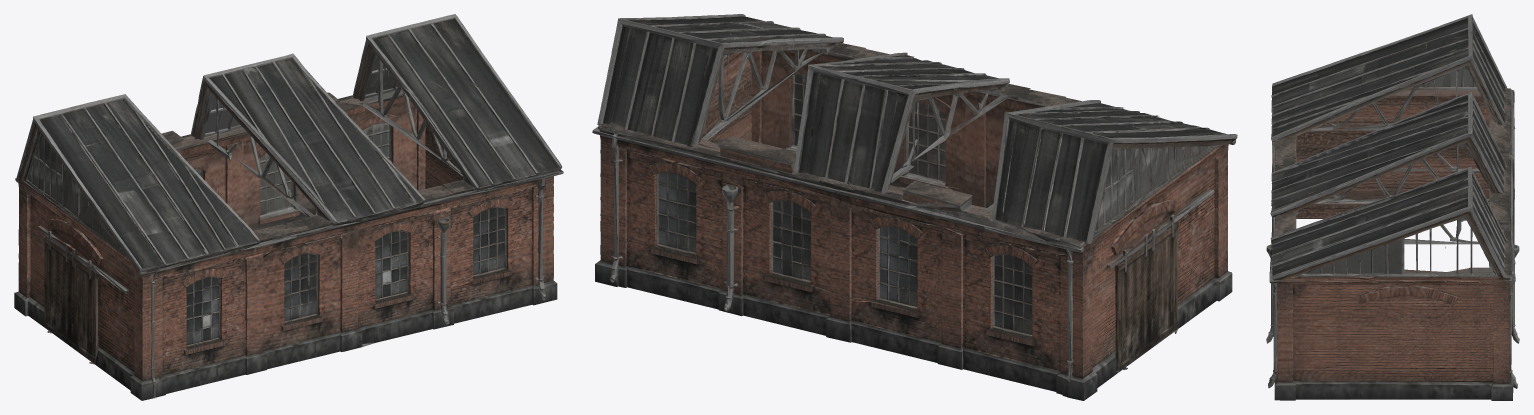
File: sawtooth_hall.glb
3 views of the same model, side by side, from view 1: azimuth 30°, elevation 25°; view 2: azimuth 150°, elevation 25°; view 3: azimuth 270°, elevation 25° (orthographic). The views are drawn at different scales.
Size of the model in its own units: 1.89 by 0.8917 by 1.05.
1 material, 1 textured.
